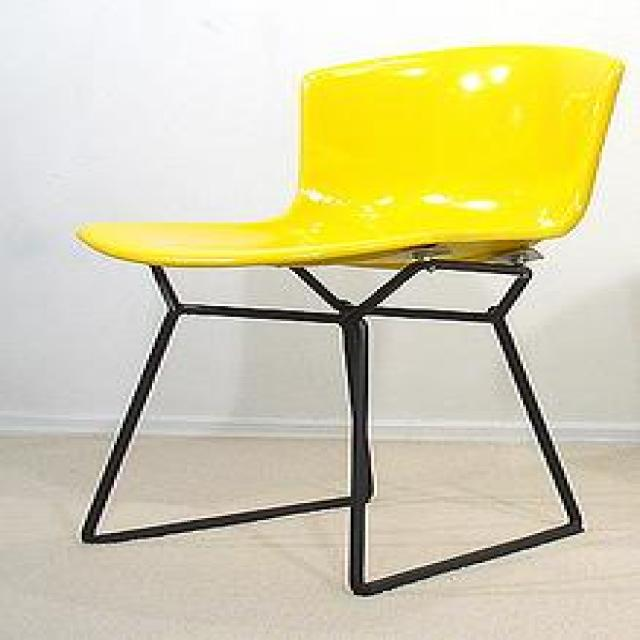chair: (70, 41, 626, 595)
